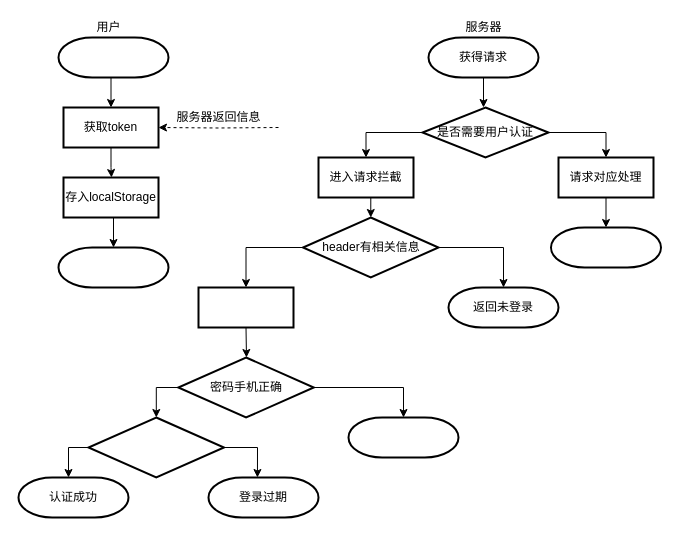
This 679x535 diagram has some shape labels left out. Each missing label, with the centre of its shape:
token注入请求: the point at 113,267
信息解码: the point at 245,307
是否过期: the point at 155,447
登录成功: the point at 113,57
结束: the point at 606,247
返回信息有误: the point at 403,437
